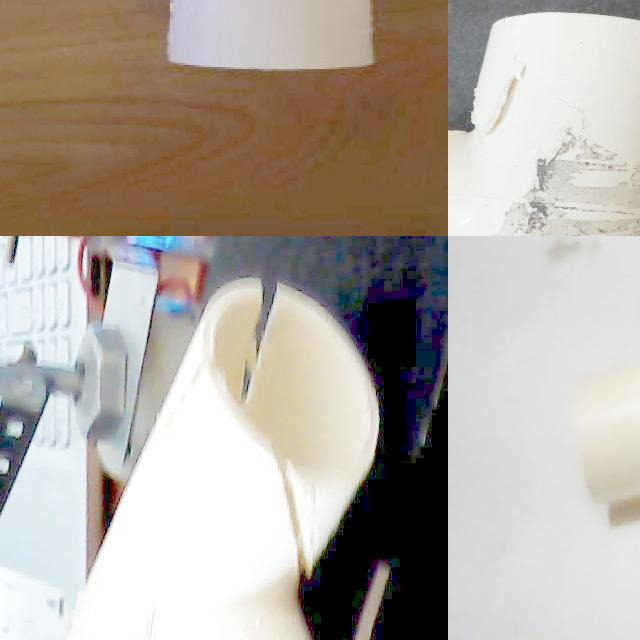Defective: (255, 436, 319, 594), (238, 263, 289, 417), (485, 68, 535, 135)
L Joint: (169, 0, 376, 73)
T Joint: (65, 278, 380, 640), (448, 12, 640, 236)
